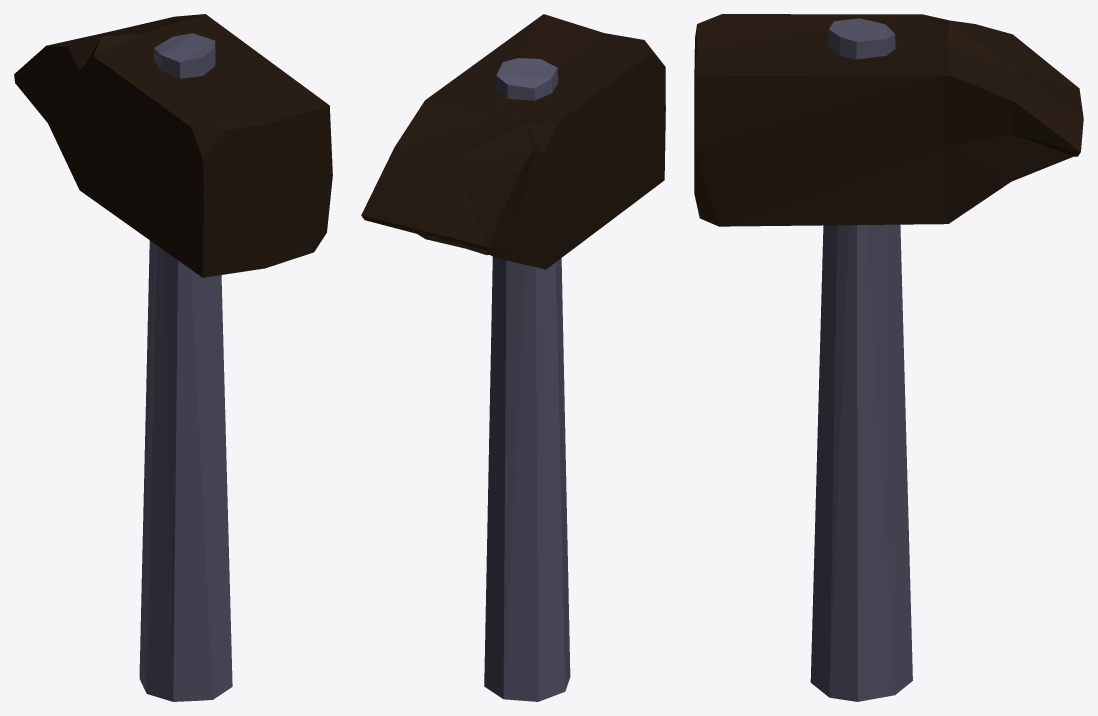
File: SFFA_Hammer_006.fbx
3 renders of one model, left to right at view 1: azimuth 30°, elevation 25°; view 2: azimuth 150°, elevation 25°; view 3: azimuth 270°, elevation 25°, orthographic. The views are drawn at different scales.
Parts seen in each view (by area): view 1: SFFA_Hammer_006; view 2: SFFA_Hammer_006; view 3: SFFA_Hammer_006.
Boxes of the visible parts, x1=… form: SFFA_Hammer_006: x1=14, y1=14, x2=332, y2=701; SFFA_Hammer_006: x1=361, y1=14, x2=665, y2=701; SFFA_Hammer_006: x1=694, y1=14, x2=1083, y2=701.
Bounding box in the file's own units: 5.84 × 27.21 × 14.51.
